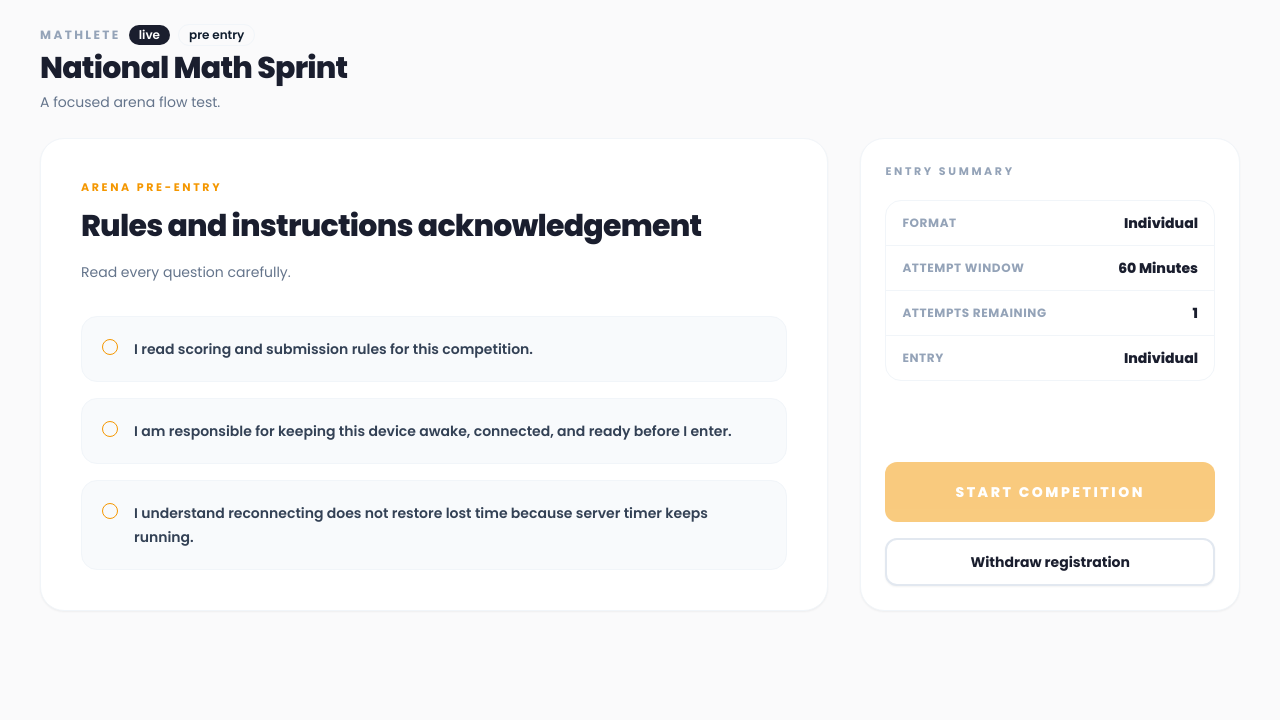
Test: ArenaExperience › requires all acknowledgements before start
This screenshot has width=1280, height=720.
Check: the button "Start competition" is disabled, box [885,462,1215,522]
Check: the button "Withdraw registration" is enabled, box [885,538,1215,586]
What coordinates should you click on to do the following:
click the 1st checkbox
I would click on:
 (110, 346)
Its box is [102,338,118,354].
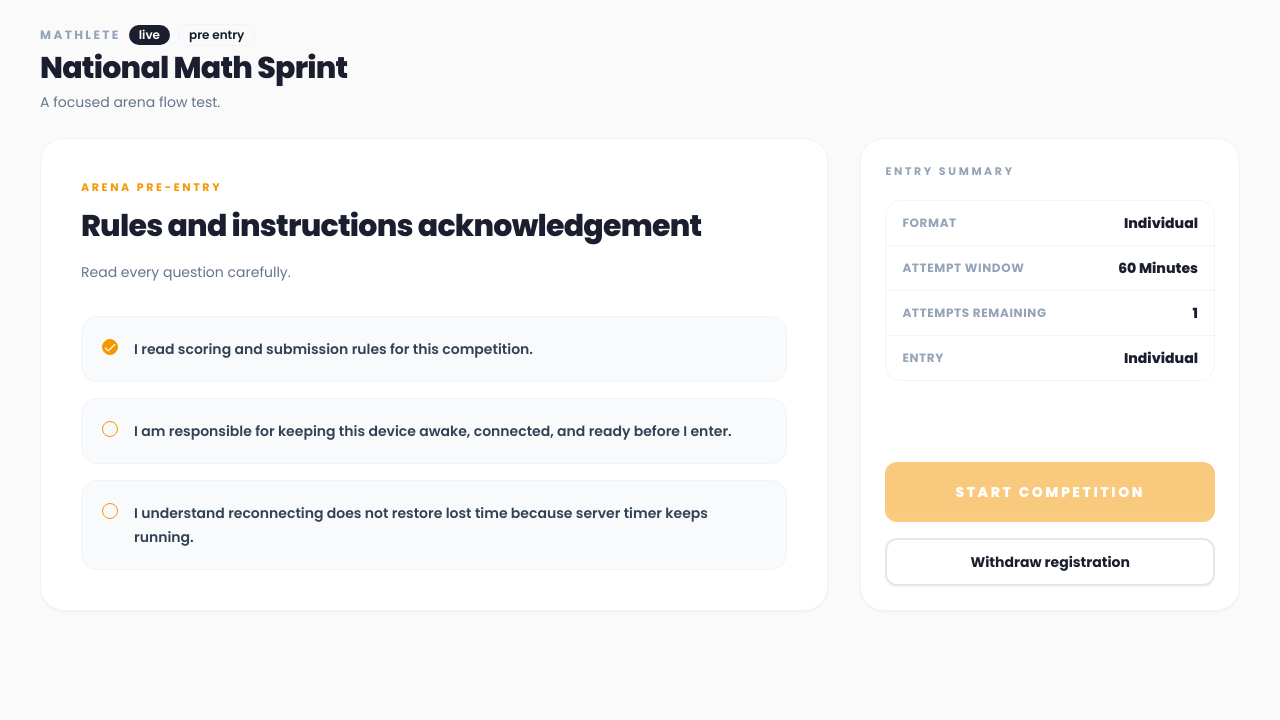
What coordinates should you click on to do the following:
click the 2nd checkbox
I would click on:
 (110, 428)
Its box is [102,420,118,436].
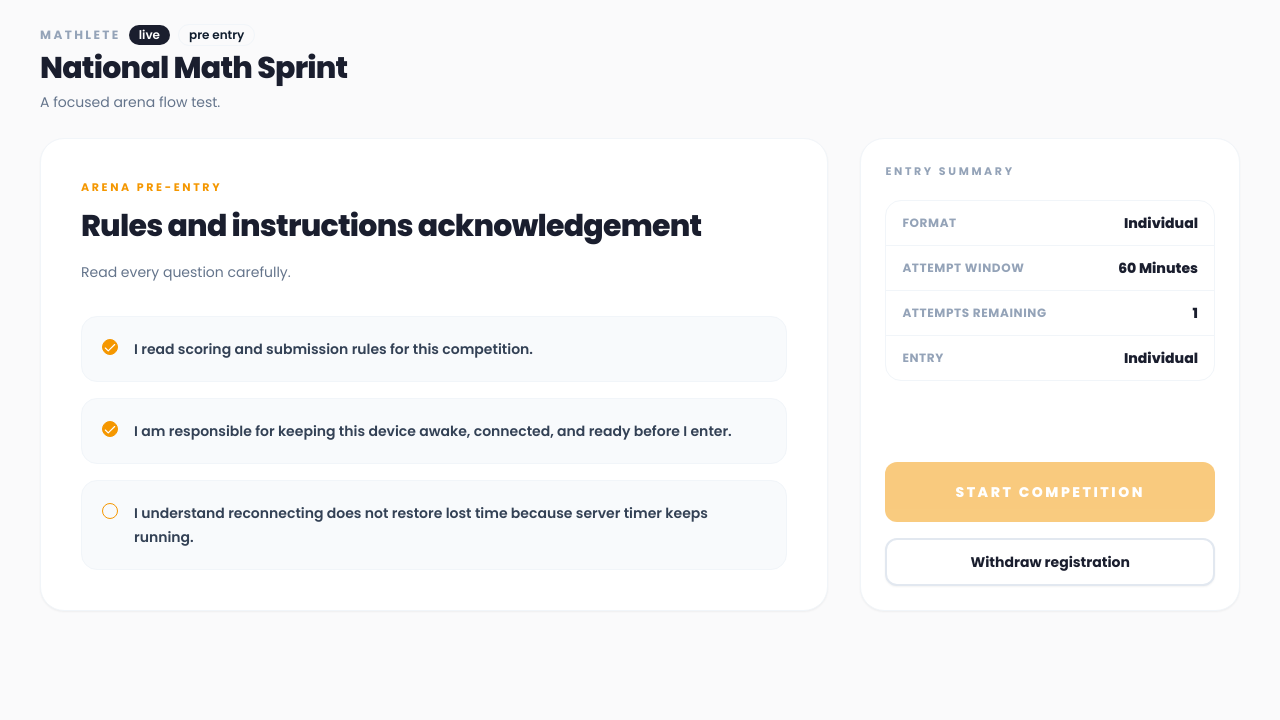
What coordinates should you click on to do the following:
click the 3rd checkbox
I would click on:
 (110, 510)
Its box is [102,502,118,518].
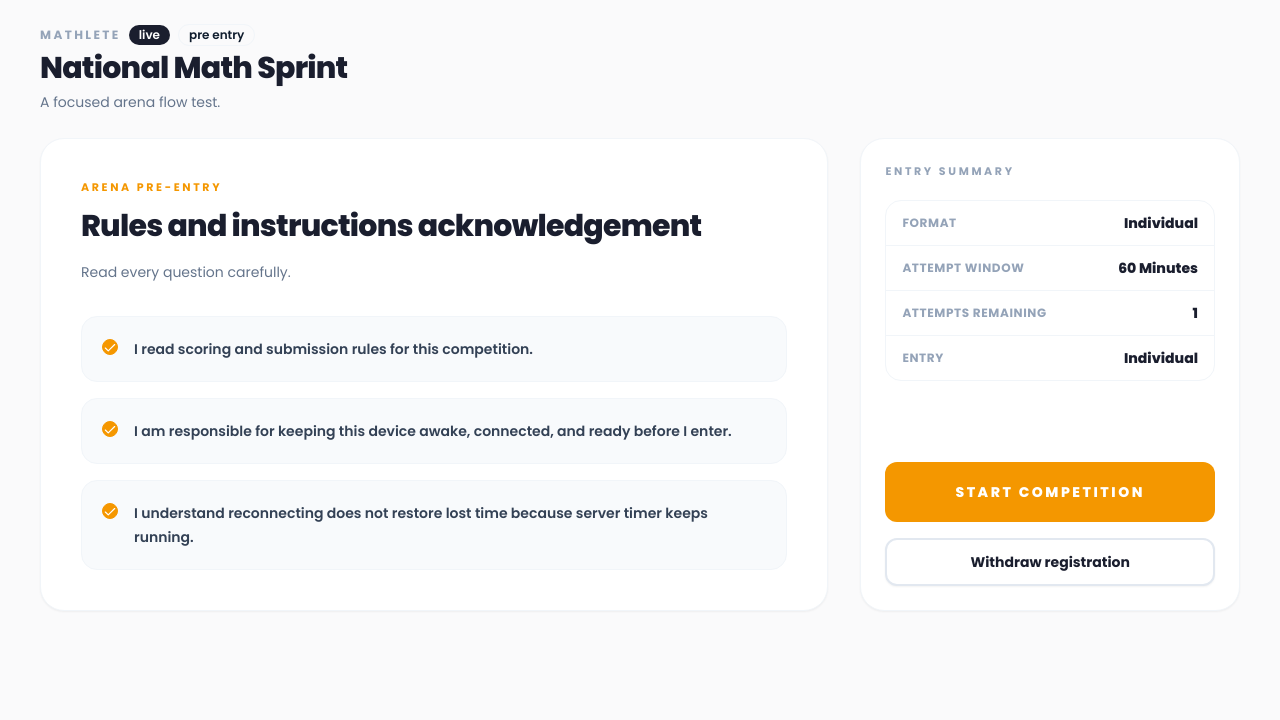
Check: the button "Start competition" is enabled, box [885,462,1215,522]
